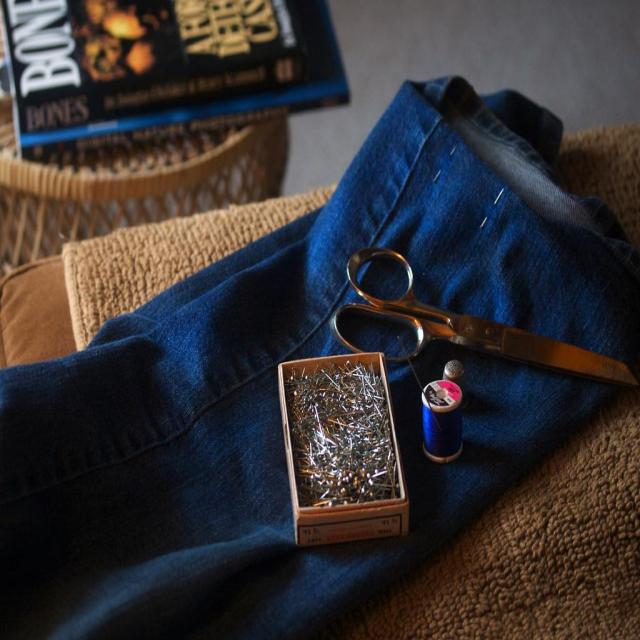scissor: (329, 242, 640, 394)
